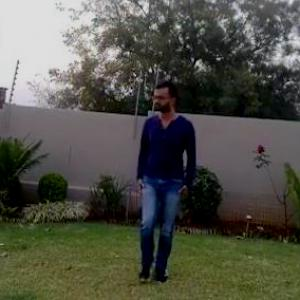follow: (127, 76, 196, 289)
